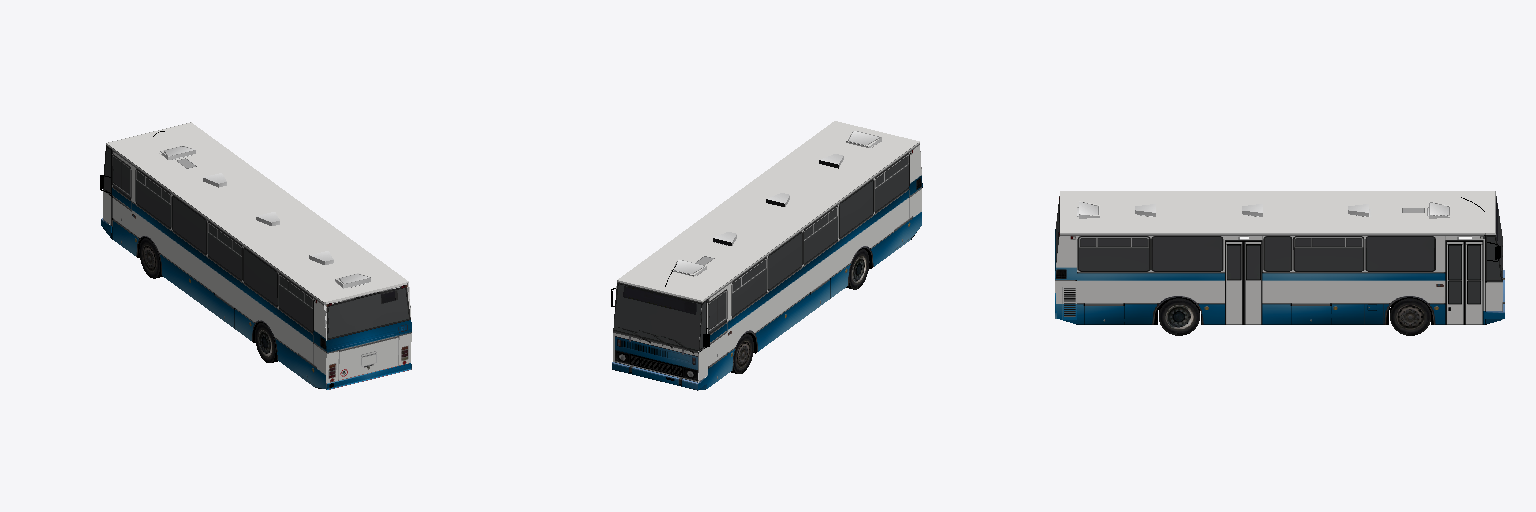
The picture shows the model from 3 angles: view 1: azimuth 30°, elevation 25°; view 2: azimuth 150°, elevation 25°; view 3: azimuth 270°, elevation 25°; orthographic projection.
Visible parts, largest first — view 1: Box009, Cylinder003, Cylinder004; view 2: Box009, Cylinder004, Cylinder003; view 3: Box009, Cylinder005, Cylinder002.
Boxes of the visible parts, <box> form: Box009: <box>100,122,411,389</box>; Cylinder003: <box>139,238,162,278</box>; Cylinder004: <box>255,322,277,362</box>; Box009: <box>611,121,922,390</box>; Cylinder004: <box>846,249,869,289</box>; Cylinder003: <box>731,333,753,373</box>; Box009: <box>1055,191,1504,324</box>; Cylinder005: <box>1159,297,1199,335</box>; Cylinder002: <box>1390,297,1430,335</box>.
Size of the model in its own units: 3.18 by 3.65 by 12.64.
1 materials, 1 textured.